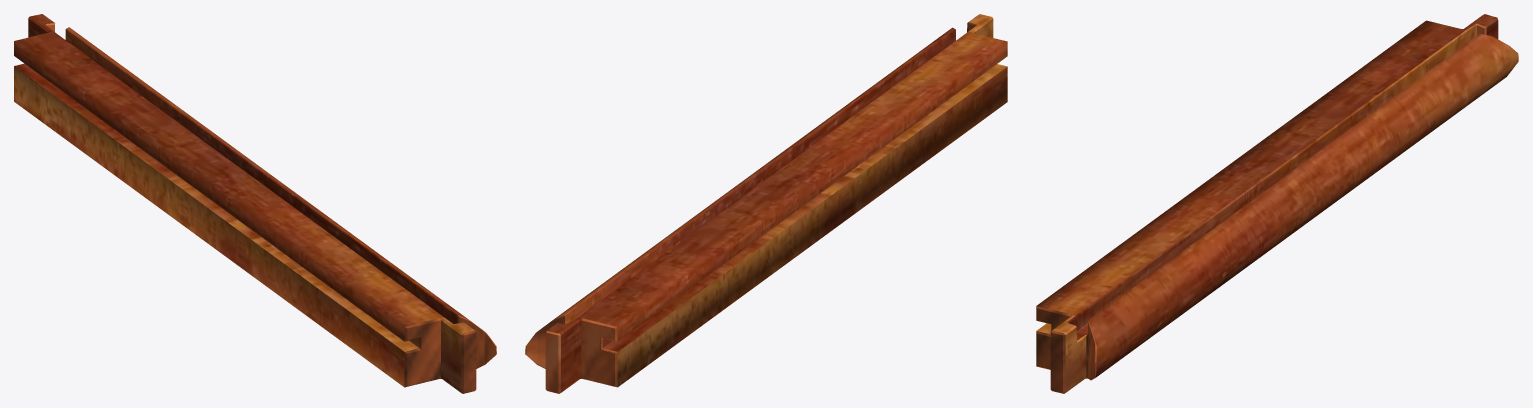
The model's file is SJ_J_motou_2_04.FBX.
The picture shows the model from 3 angles, left to right: view 1: azimuth 30°, elevation 25°; view 2: azimuth 150°, elevation 25°; view 3: azimuth 330°, elevation 25°; orthographic projection.
Parts seen in each view (by area): view 1: SJ_J_motou_2_04; view 2: SJ_J_motou_2_04; view 3: SJ_J_motou_2_04.
Boxes of the visible parts, bbox=[...] form: SJ_J_motou_2_04: bbox=[14, 14, 496, 393]; SJ_J_motou_2_04: bbox=[525, 14, 1007, 393]; SJ_J_motou_2_04: bbox=[1036, 14, 1518, 393].
Size of the model in its own units: 3.94 by 3 by 38.93.
